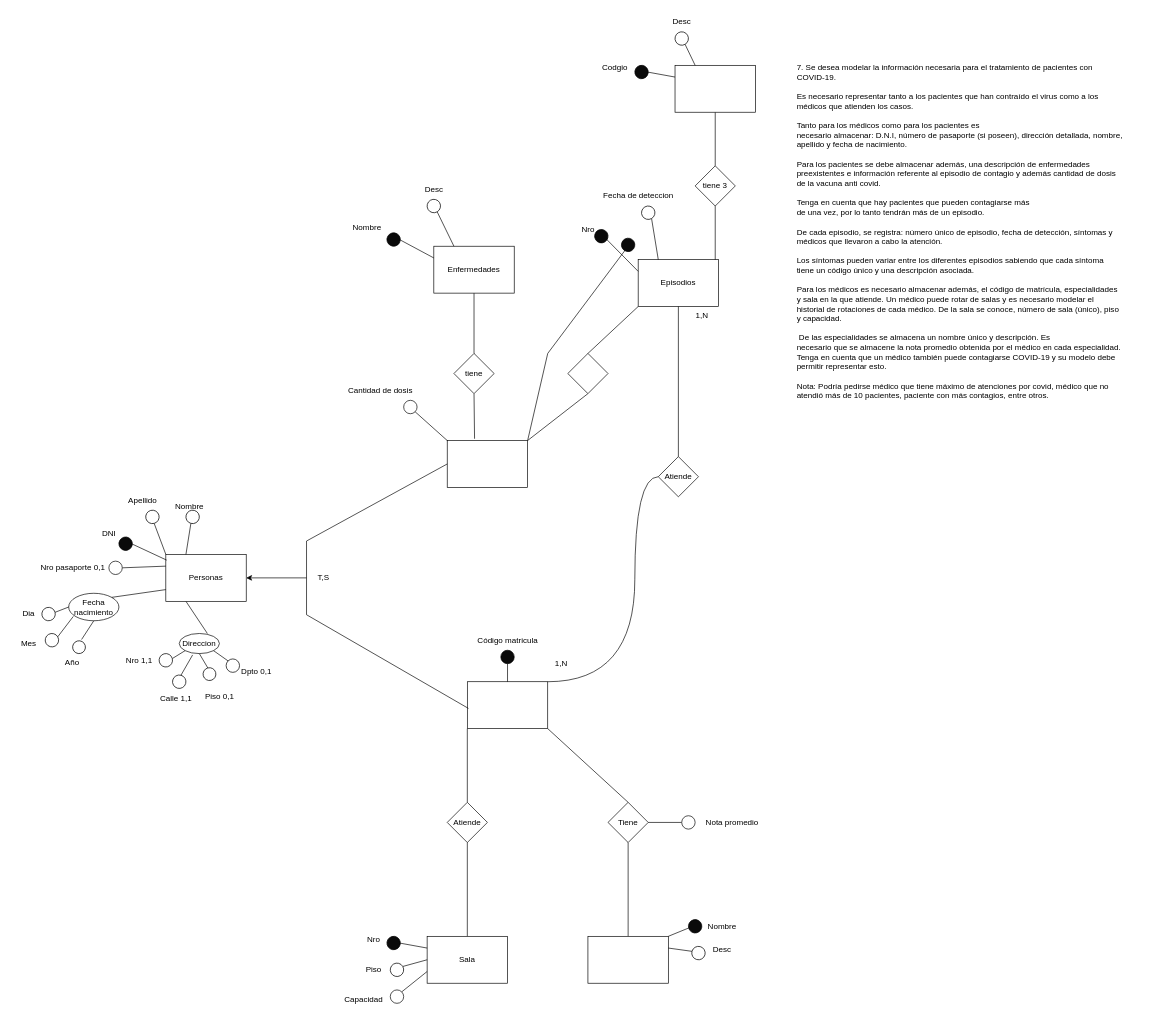
The diagram is 1155 pixels wide and 1021 high, and some of its shapes have lost their labels. The shapes that lost their labels are listed below. From the top down, each one's centre as x and y in pixels, then its label:
At (714,88): "Productos".
At (587,373): "tiene 2".
At (487,463): "Pacientes".
At (507,705): "Medicos".
At (627,959): "Especialidades".
